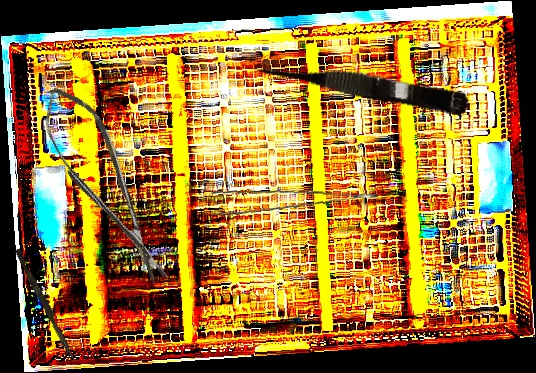Micro Scissor: (31, 75, 179, 297), (248, 51, 471, 117)
Pusher: (11, 248, 81, 363)
Tissue Forceps: (209, 182, 379, 227)
